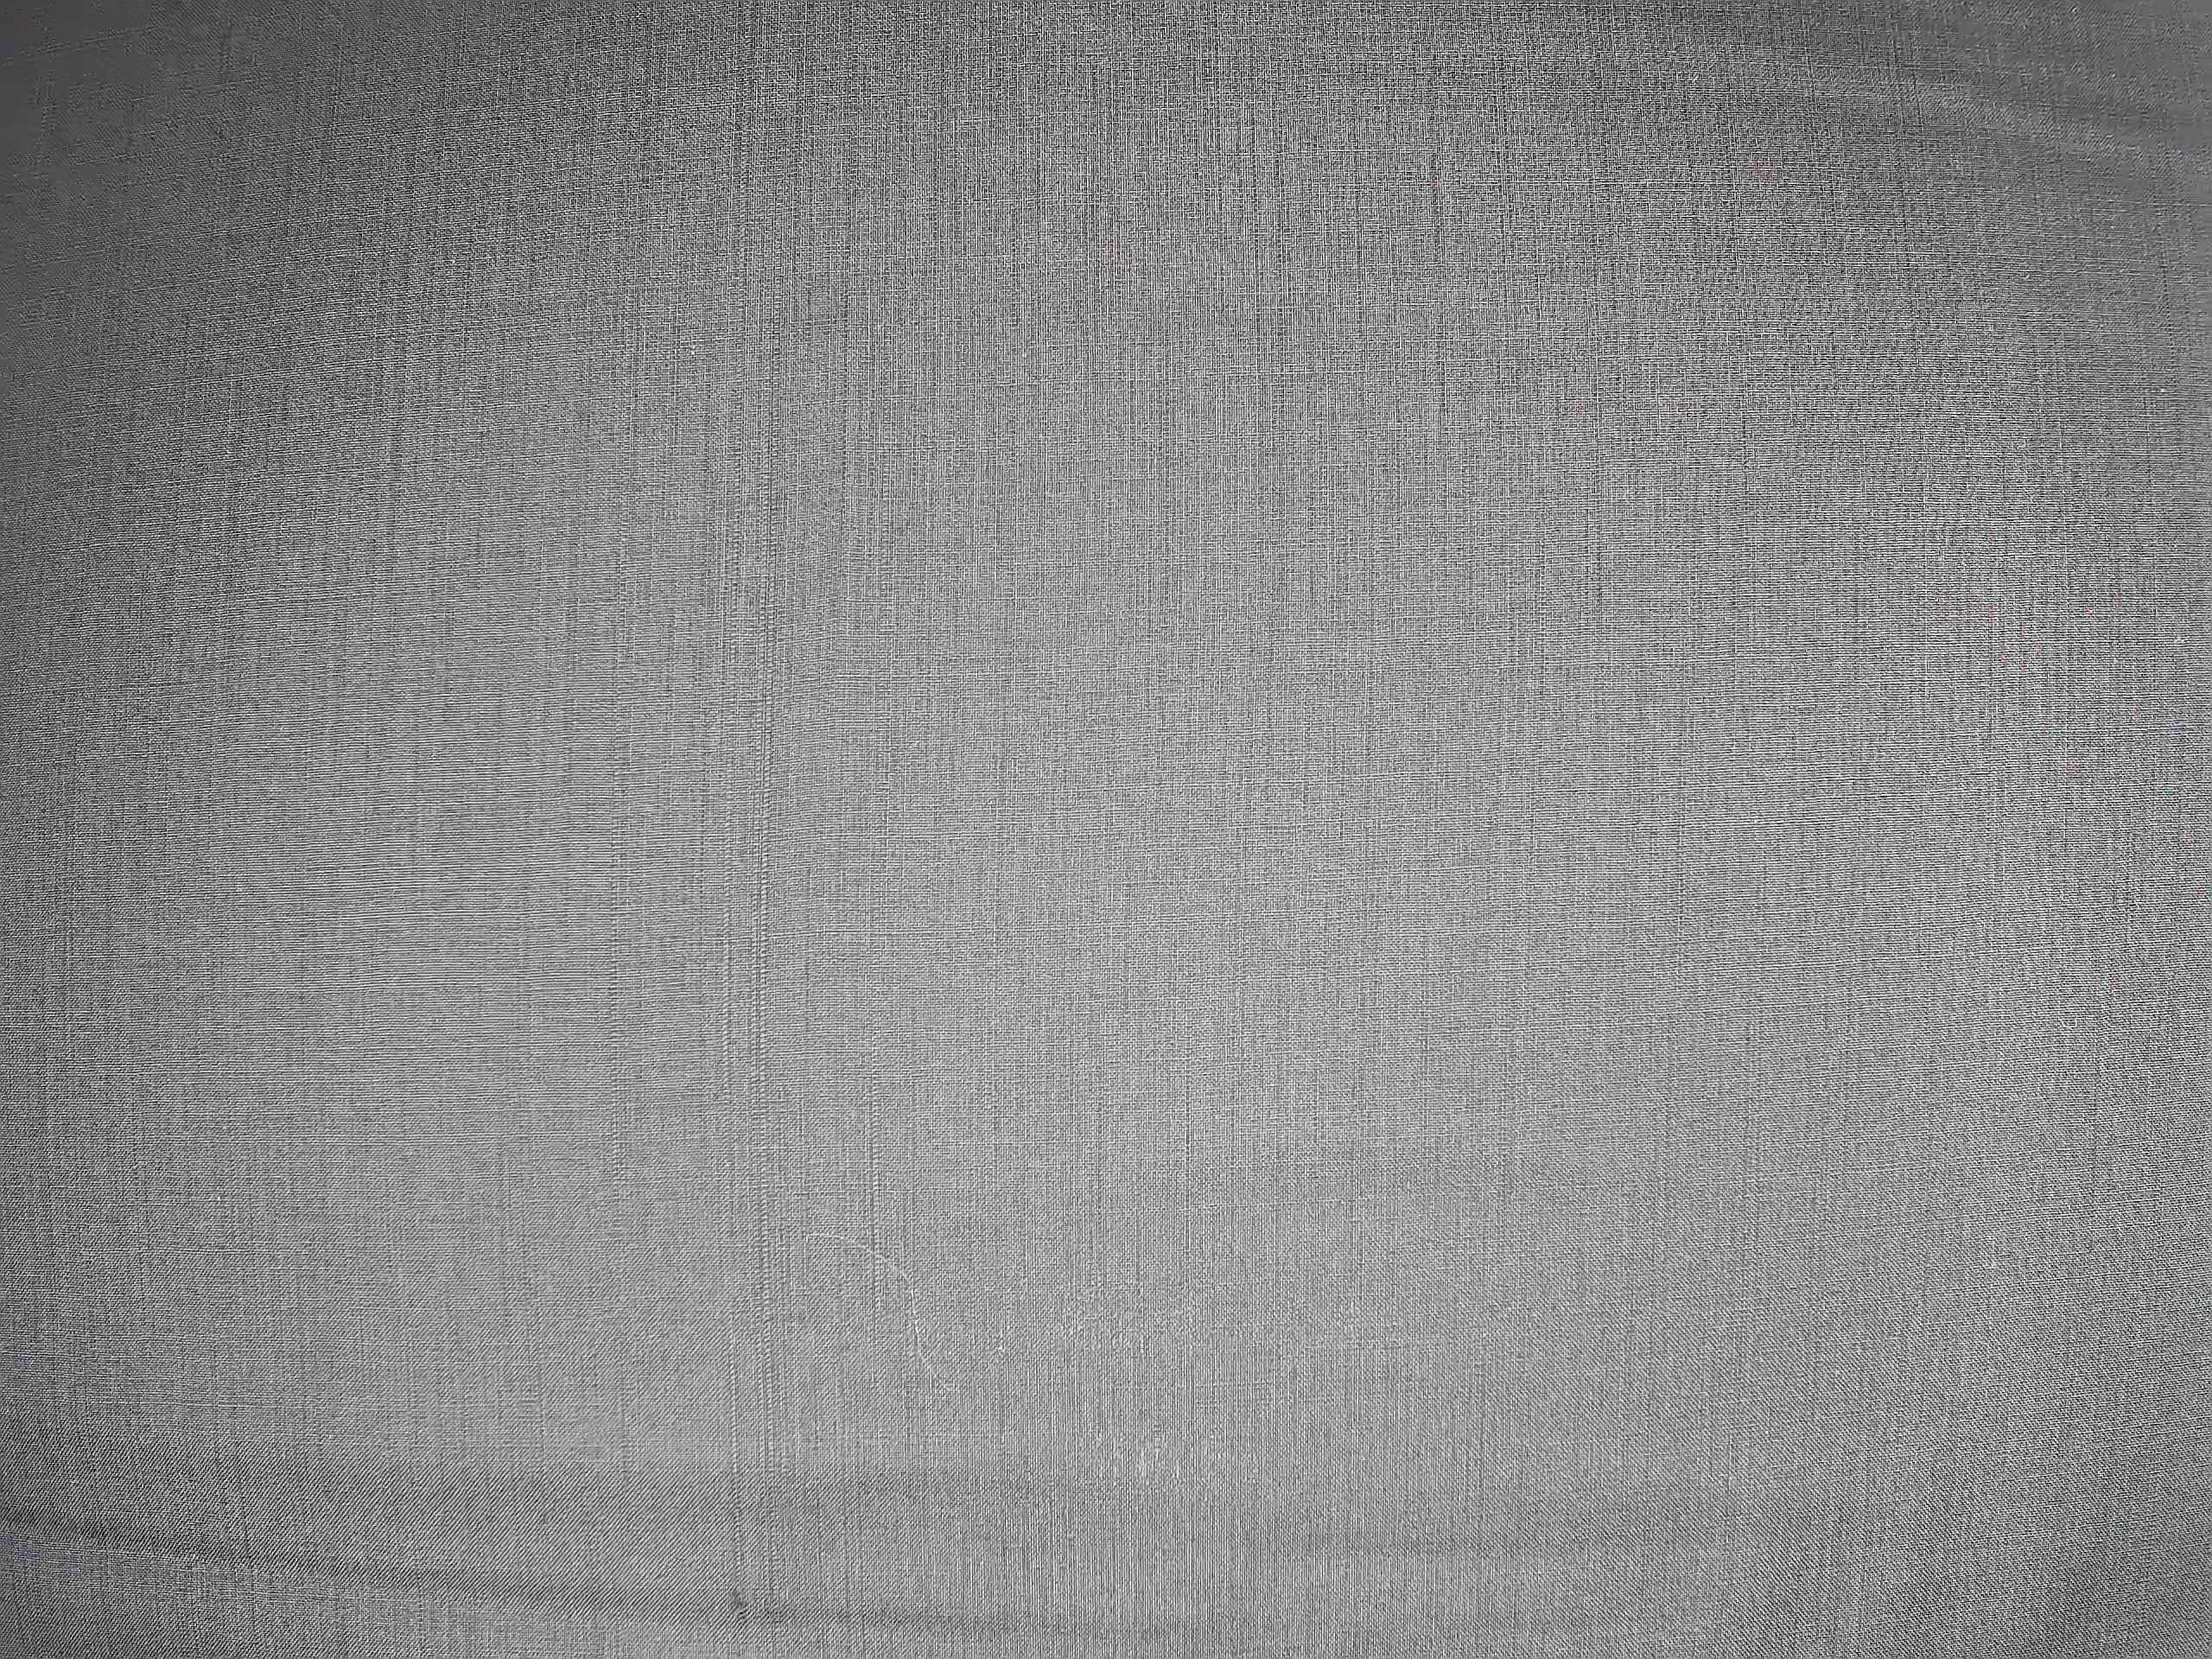hanging-warp: (725, 397, 791, 1640)
